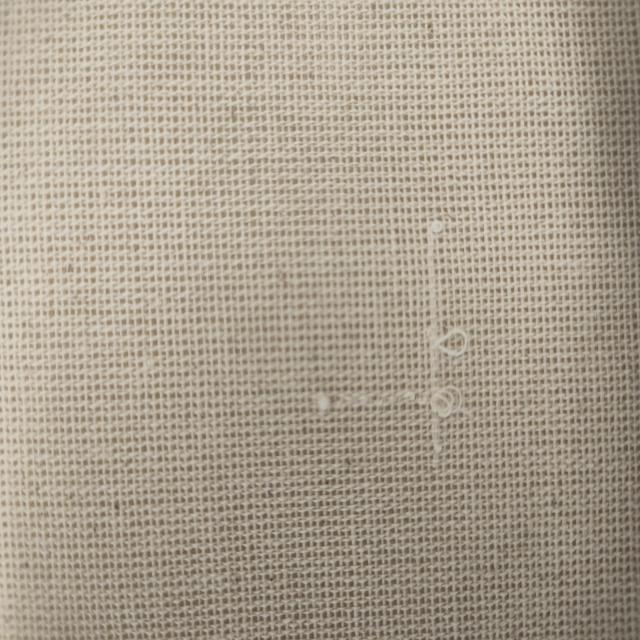Thread_other: (408, 190, 476, 486)
